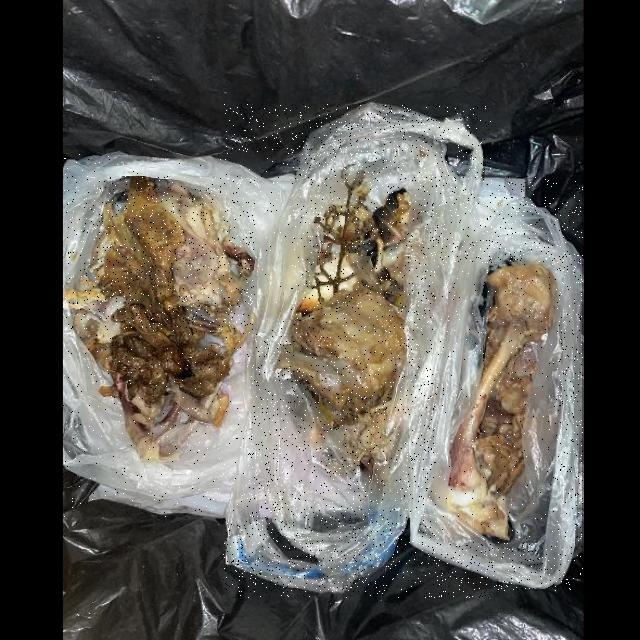biowaste: (67, 176, 256, 456), (437, 264, 557, 543)
plastic: (224, 104, 492, 598), (411, 178, 583, 591), (63, 155, 293, 336), (63, 330, 247, 518)
wrapper: (292, 164, 411, 483)
